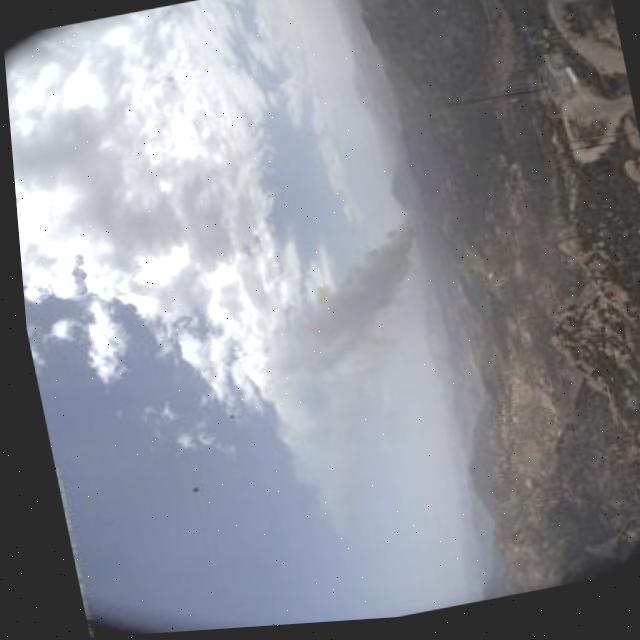Smoke: (215, 185, 483, 557)
